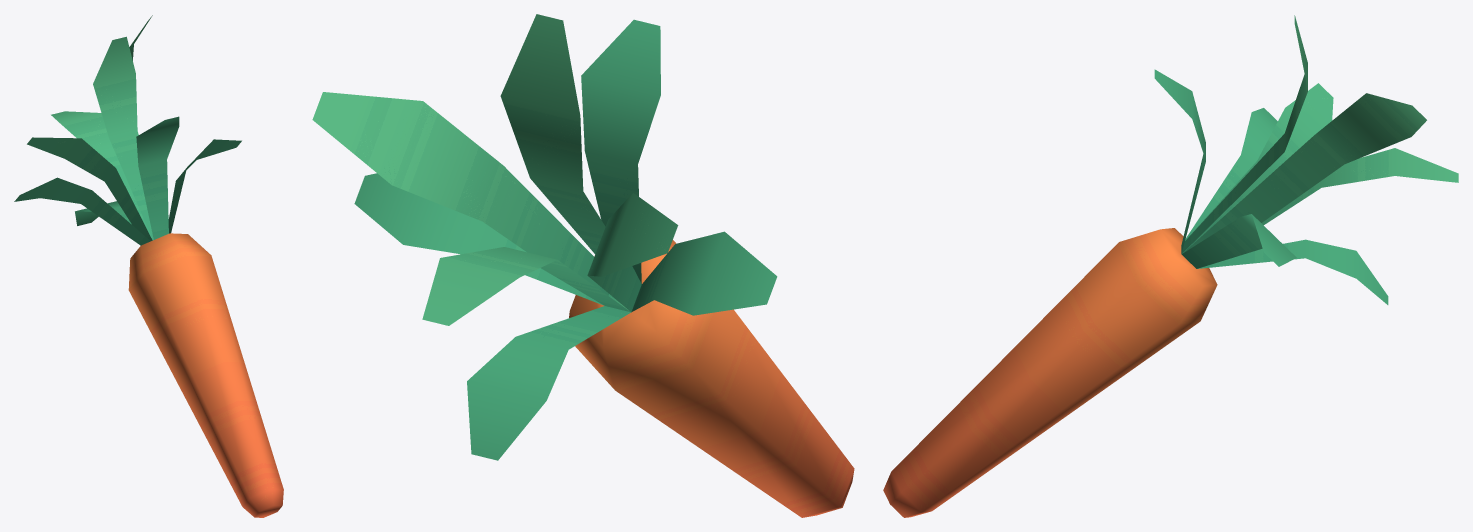
Rendered from carrot.glb.
The picture shows the model from 3 angles, left to right: view 1: azimuth 30°, elevation 25°; view 2: azimuth 150°, elevation 25°; view 3: azimuth 270°, elevation 25°; orthographic projection. The views are drawn at different scales.
Visible parts, largest first — view 1: carrot; view 2: carrot; view 3: carrot.
Part boxes in pixels (x1,y1,x2,y2): carrot: [14, 15, 283, 517]; carrot: [312, 14, 854, 517]; carrot: [883, 15, 1458, 517].
Size of the model in its own units: 0.3431 by 0.5513 by 0.5768.
Materials: 1 (1 with a texture image).
